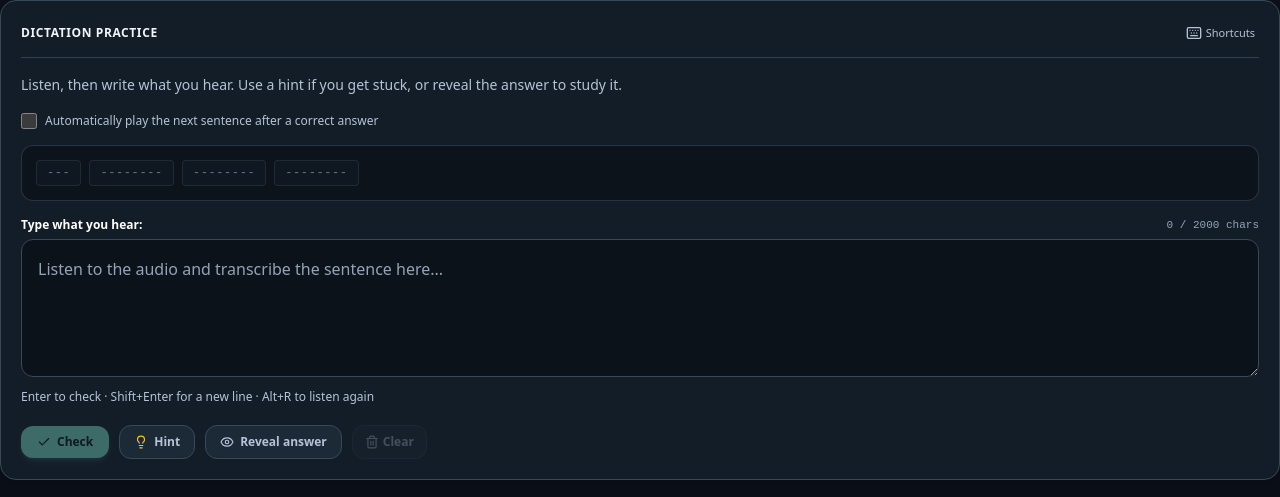
Test case: DictationBox Component › fetches and displays first-letter hint with Alt+H or Hint button
// Click Hint button
Click the button with aria-label "get hint" at (157, 442), box [119,425,195,459]
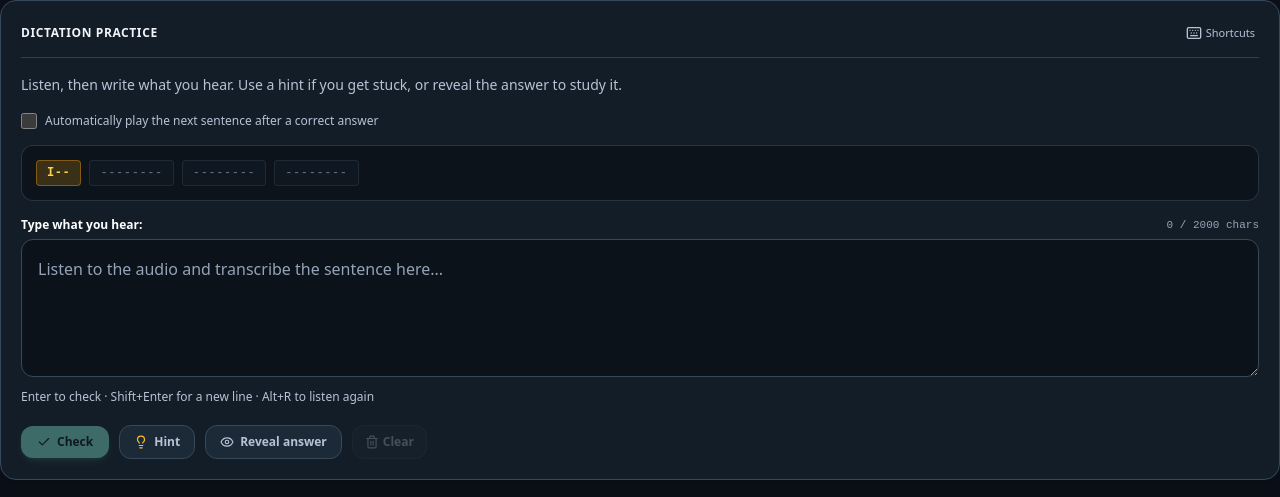
Check: the text named "word hint: starts with I" is shown, box [36,160,81,186]
Check: the text named "word hint: starts with I" shows "I", box [47,166,55,180]
